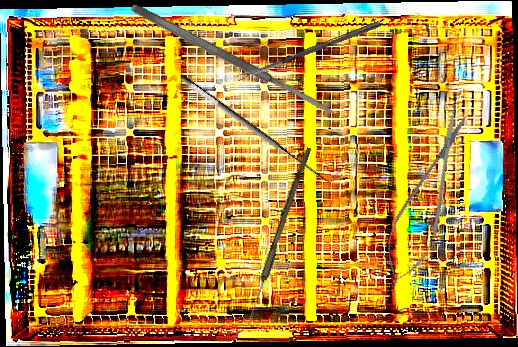Hook Surgical: (178, 63, 342, 191)
Micro Scissor: (373, 103, 482, 291)
Spatula Surgical: (128, 0, 338, 120)
Surgical Spoon: (244, 145, 312, 328), (235, 19, 382, 82)
